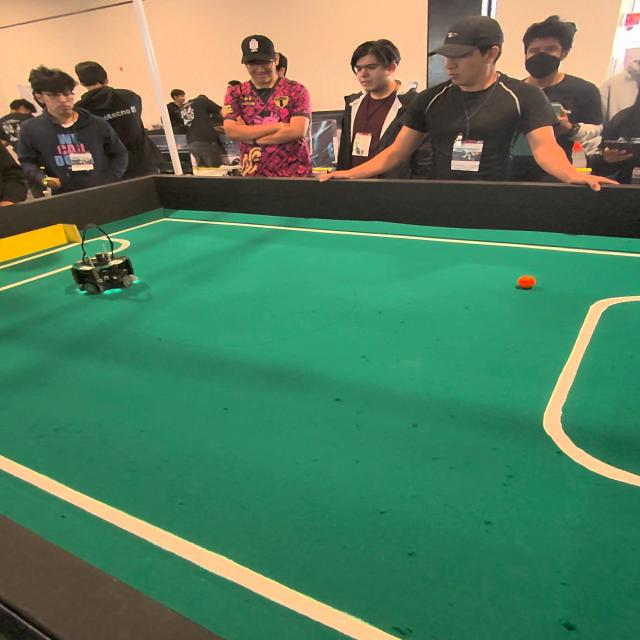Robot: (72, 227, 144, 303)
pelota: (511, 271, 543, 297)
